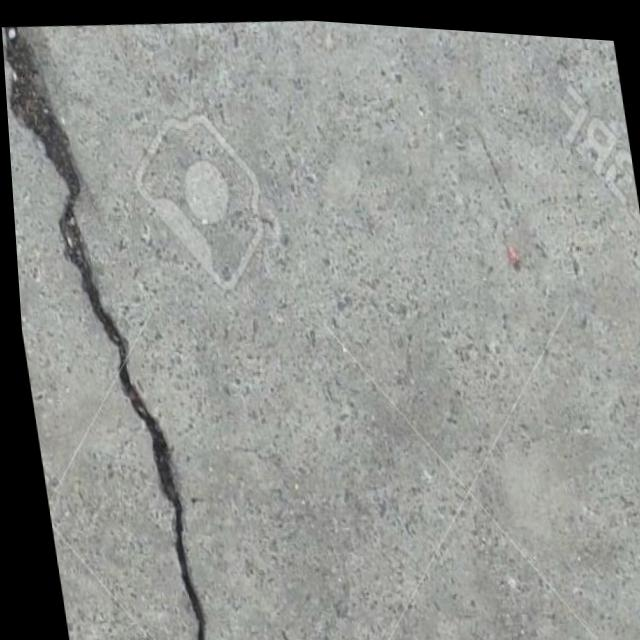Crack: (1, 14, 229, 640)
